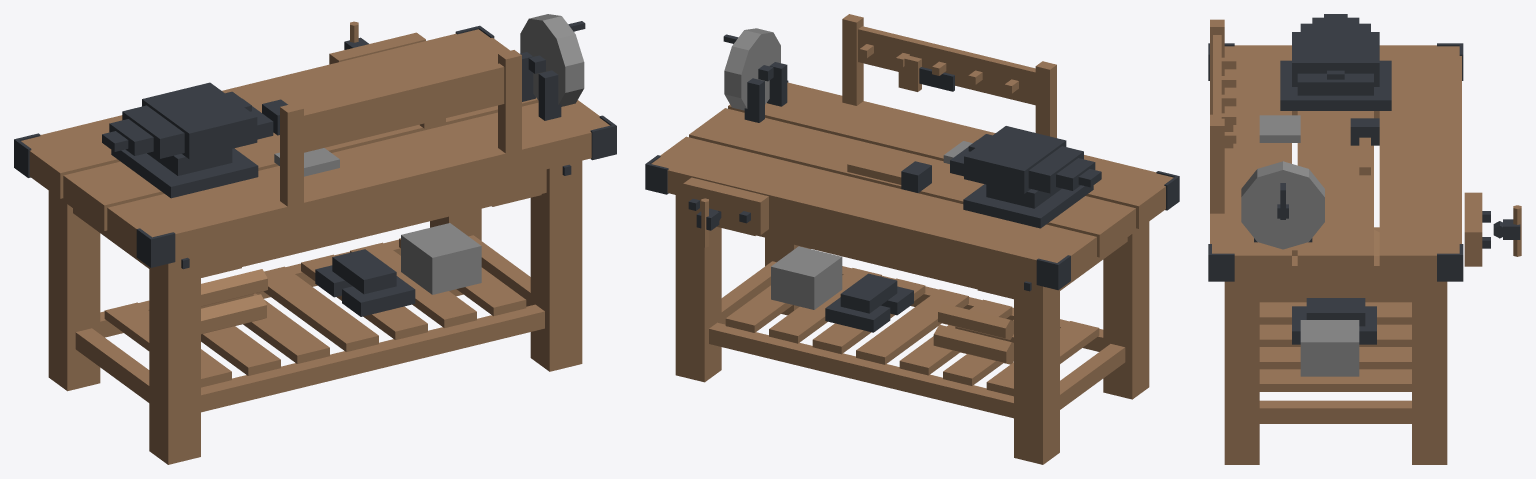
The model's file is Workbench.obj.
The picture shows the model from 3 angles, left to right: view 1: azimuth 30°, elevation 25°; view 2: azimuth 150°, elevation 25°; view 3: azimuth 270°, elevation 25°; orthographic projection. The views are drawn at different scales.
Visible parts, largest first — view 1: Wood, Iron, Stone; view 2: Wood, Iron, Stone; view 3: Wood, Iron, Stone.
Part boxes in pixels (x1,y1,x2,y2): Wood: (21,21,609,464); Iron: (14,21,616,316); Stone: (274,14,584,294); Wood: (651,14,1173,464); Iron: (645,34,1179,332); Stone: (724,28,972,309); Wood: (1210,19,1521,464); Iron: (1208,14,1520,344); Stone: (1241,115,1359,376).
Bounding box in the file's own units: 1.74 × 1.16 × 1.07.
